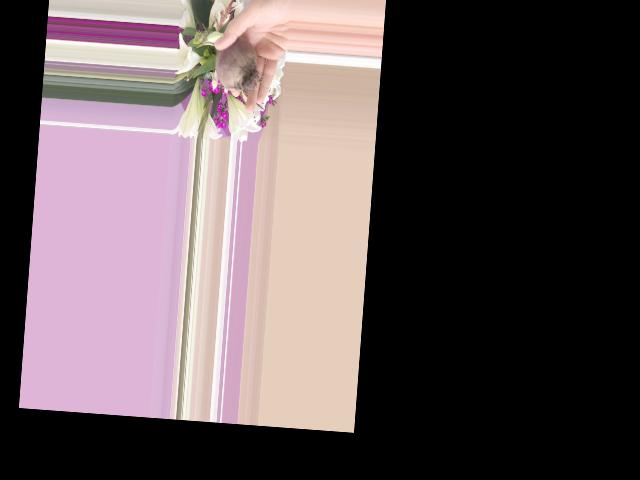beet: (193, 34, 260, 94)
